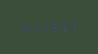four: (17, 21, 25, 35)
nine: (53, 19, 61, 33), (62, 19, 70, 32)
one: (35, 20, 43, 34), (26, 21, 34, 34)
seven: (44, 20, 52, 33)
two: (71, 18, 79, 32)
